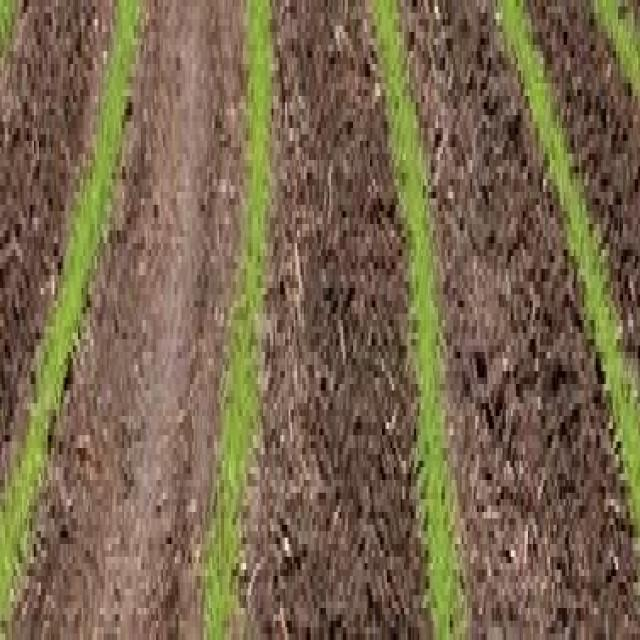row: (395, 1, 640, 640), (6, 3, 251, 640), (230, 3, 432, 640), (1, 0, 122, 523), (528, 0, 640, 392), (626, 0, 640, 40)
